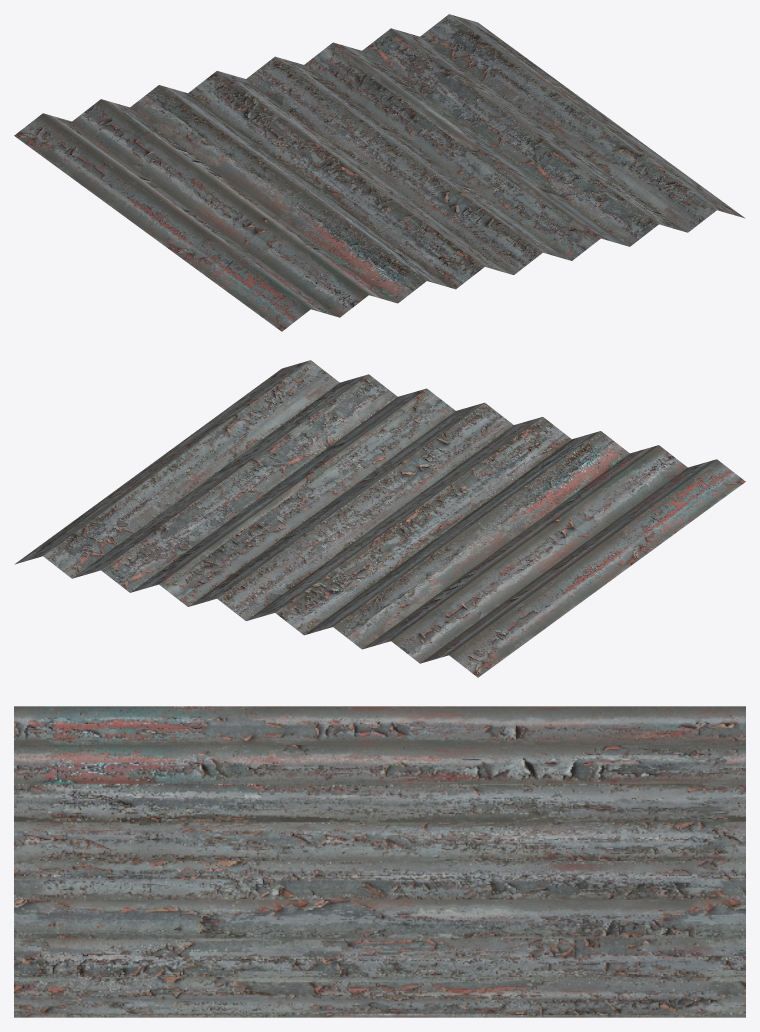
The model's file is MetalSheetSmall.fbx.
3 views of the same model, one above another, from view 1: azimuth 30°, elevation 25°; view 2: azimuth 150°, elevation 25°; view 3: azimuth 270°, elevation 25° (orthographic). The views are drawn at different scales.
Parts seen in each view (by area): view 1: MetalSheetSmall; view 2: MetalSheetSmall; view 3: MetalSheetSmall.
Boxes of the visible parts, box(x1,y1,x2,y2) form: MetalSheetSmall: box(14, 14, 745, 331); MetalSheetSmall: box(14, 360, 745, 677); MetalSheetSmall: box(14, 706, 745, 1017).
Size of the model in its own units: 200 by 6.38 by 200.
1 material, 1 textured.
